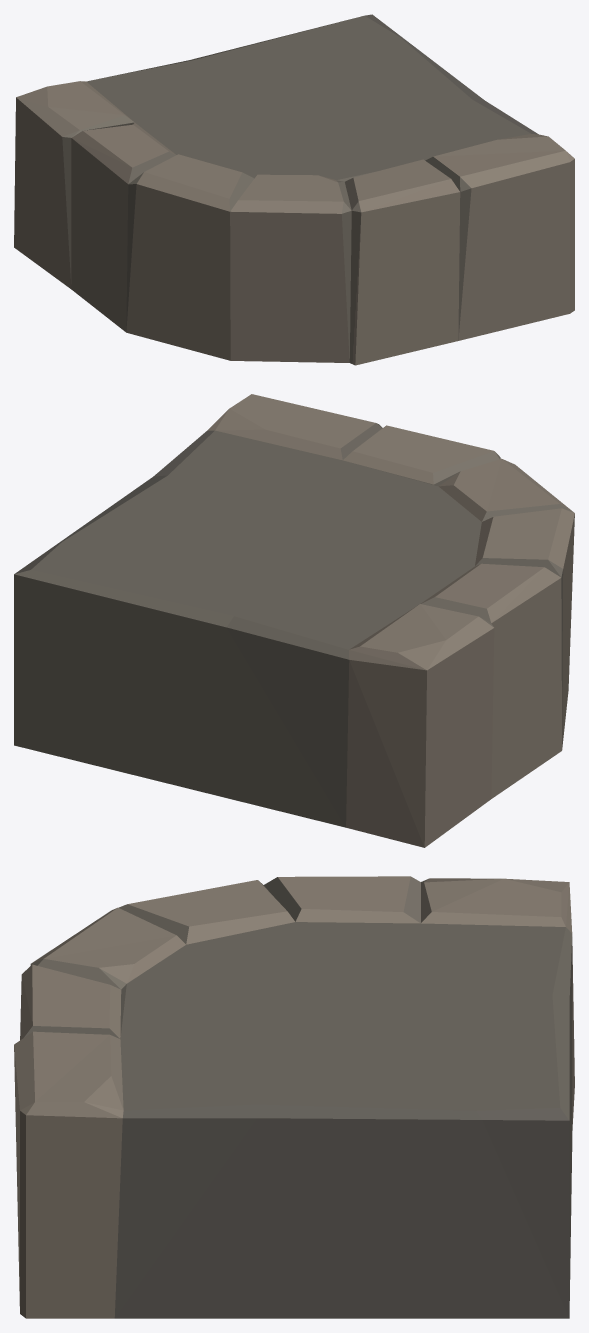
File: SM_Env_Sidewalk_Corner_01.glb
3 views of the same model, one above another, from view 1: azimuth 30°, elevation 25°; view 2: azimuth 150°, elevation 25°; view 3: azimuth 270°, elevation 25° (orthographic). The views are drawn at different scales.
Visible parts, largest first — view 1: SM_Env_Sidewalk_Corner_01; view 2: SM_Env_Sidewalk_Corner_01; view 3: SM_Env_Sidewalk_Corner_01.
Part boxes in pixels (x1=…): SM_Env_Sidewalk_Corner_01: x1=14, y1=14, x2=574, y2=365; SM_Env_Sidewalk_Corner_01: x1=14, y1=394, x2=574, y2=847; SM_Env_Sidewalk_Corner_01: x1=14, y1=876, x2=574, y2=1318.
Size of the model in its own units: 2.5 by 1.05 by 2.5.
1 material, 1 textured.
